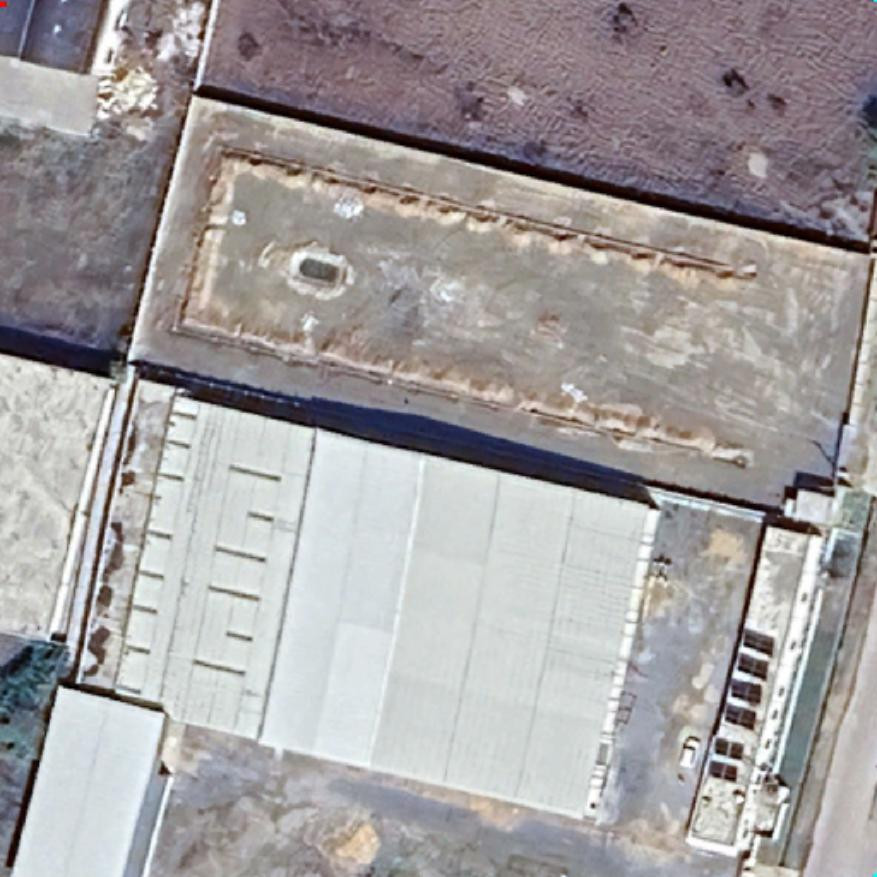Solarpanel: (724, 674, 768, 708), (732, 648, 772, 684), (738, 624, 780, 658), (719, 700, 761, 734), (704, 756, 744, 786), (710, 733, 748, 763)
